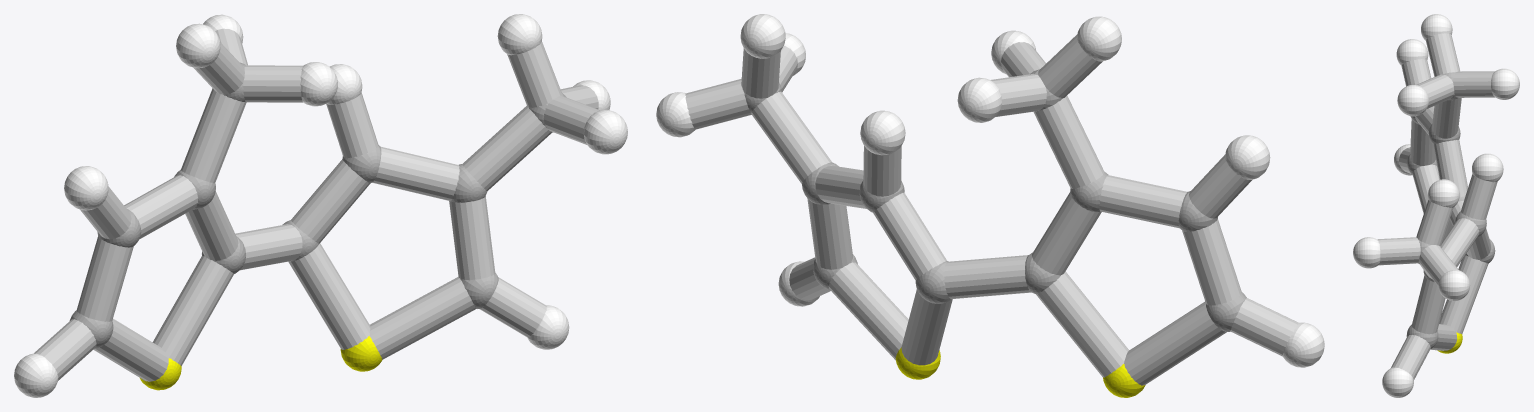
Rendered from Methylthiophene_Phi_40_Theta_170_Methylthiophene.glb.
3 renders of one model, left to right at view 1: azimuth 30°, elevation 25°; view 2: azimuth 150°, elevation 25°; view 3: azimuth 270°, elevation 25°, orthographic. The views are drawn at different scales.
Parts seen in each view (by area): view 1: grp7965, grp3621, grp1, grp7241; view 2: grp7965, grp3621, grp1, grp7241; view 3: grp7965, grp3621, grp1, grp7241.
Part boxes in pixels (<box>): grp7965: <box>34,28,600,381</box>; grp3621: <box>14,14,627,397</box>; grp1: <box>69,62,566,348</box>; grp7241: <box>140,336,382,390</box>; grp7965: <box>685,34,1298,385</box>; grp3621: <box>656,14,1324,367</box>; grp1: <box>743,69,1246,331</box>; grp7241: <box>895,347,1145,397</box>; grp7965: <box>1377,33,1497,380</box>; grp3621: <box>1353,14,1519,397</box>; grp1: <box>1406,72,1495,349</box>; grp7241: <box>1437,332,1462,353</box>.
Bounding box in the file's own units: 9.63 × 5.78 × 3.15.
